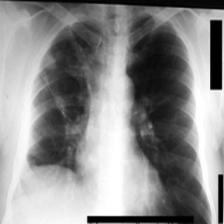tuberculosis: (17, 7, 210, 222)
